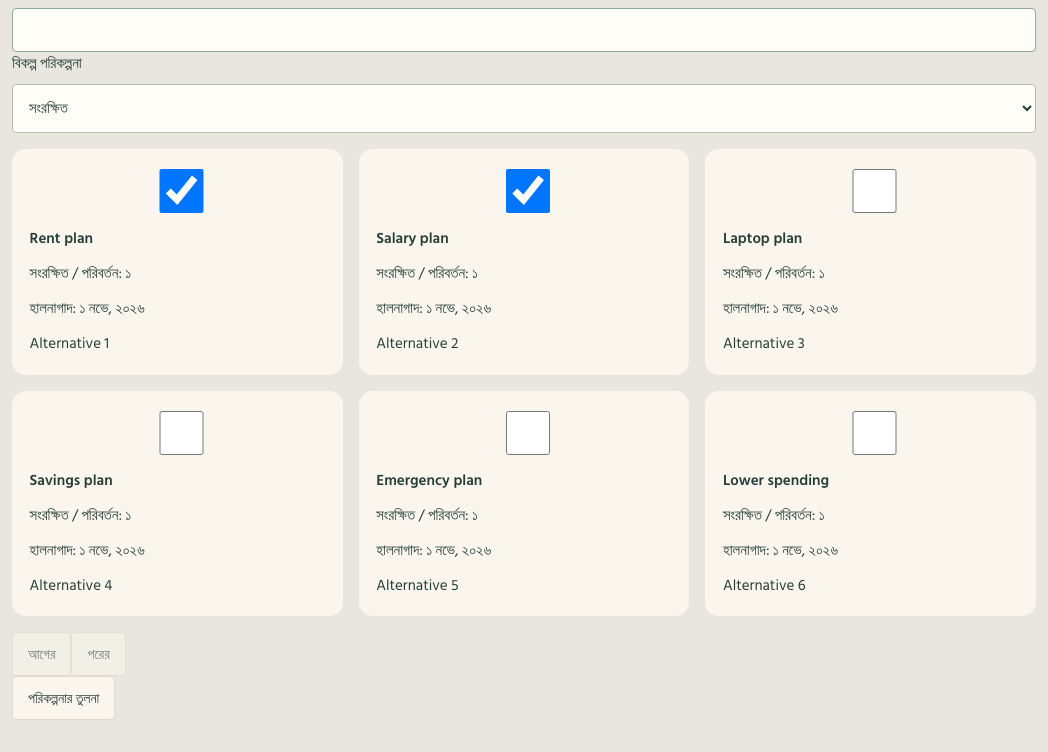
Test case: renders structured matrix and assumptions in bn
(page scrolled)
Click the button "পরিকল্পনার তুলনা" at (64, 698), box [12,676,115,720]
(page scrolled)
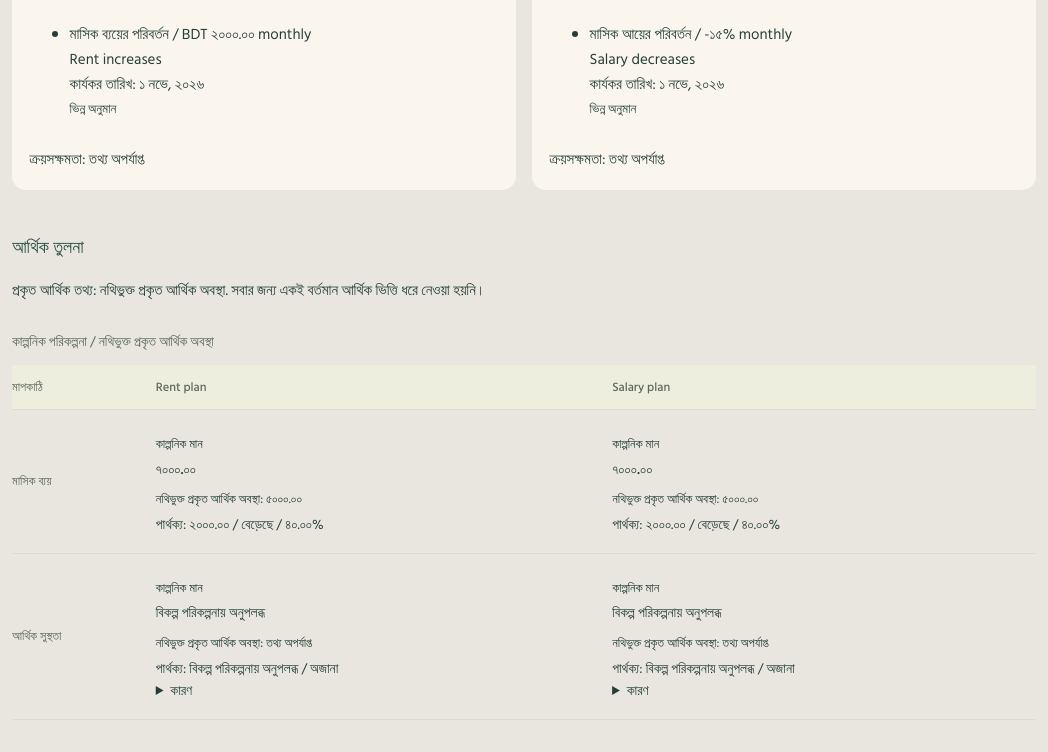
Check: the text "Salary decreases" is shown, box [590,47,695,72]
Check: the 1st text "বিকল্প পরিকল্পনায় অনুপলব্ধ" is shown, box [156,602,265,624]
